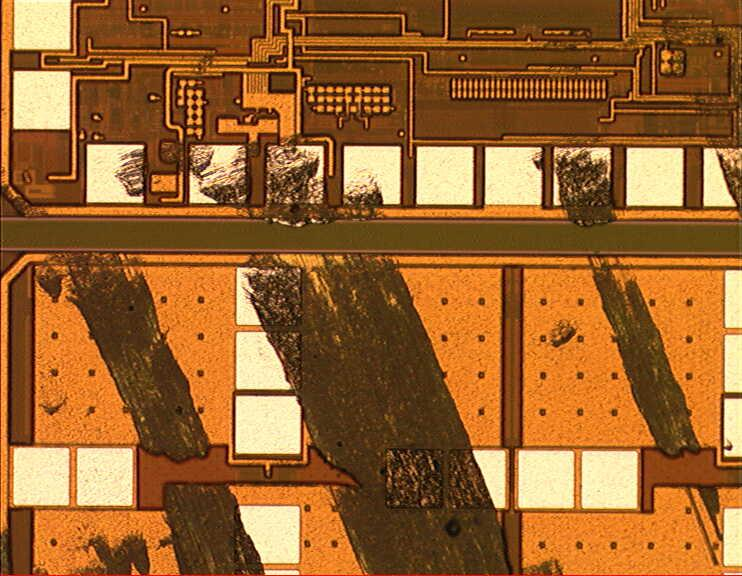SCRATCH: (1, 9, 742, 576)
